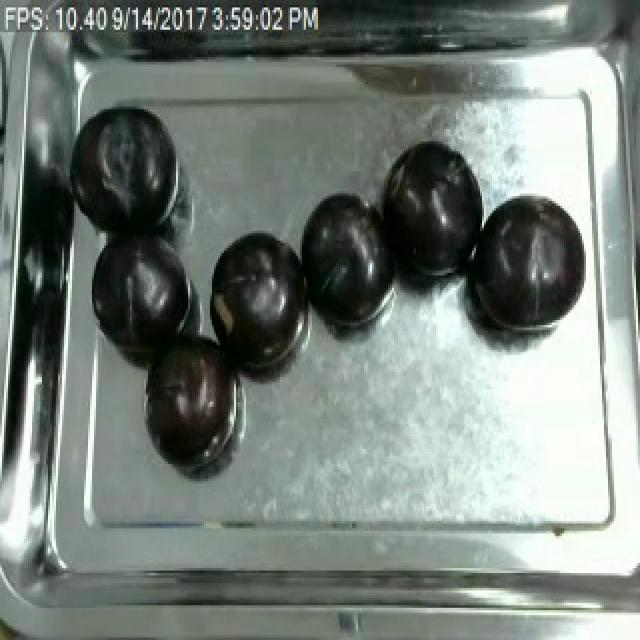Fruit: (460, 191, 588, 345), (374, 134, 490, 288), (292, 184, 406, 338), (206, 223, 318, 377), (68, 102, 184, 243), (138, 327, 248, 469), (84, 226, 196, 357)
